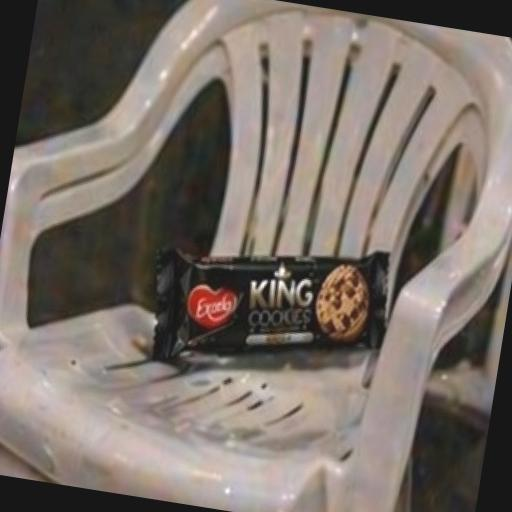king_cooking: (118, 172, 430, 398)
